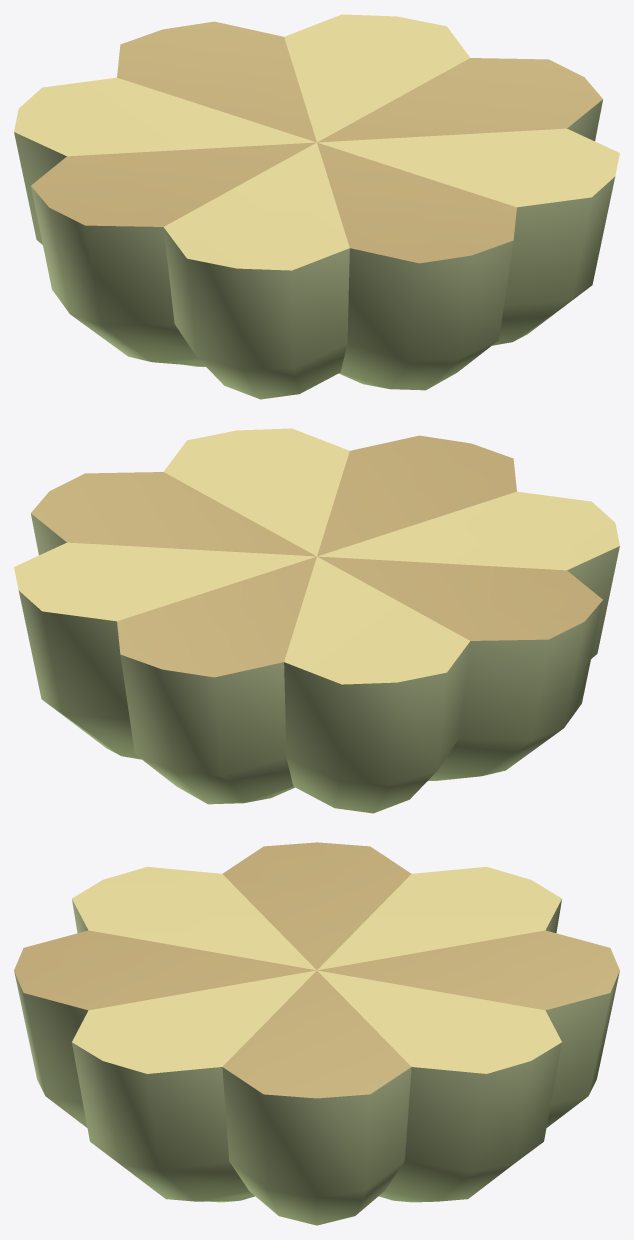
File: Garlic_Slice_01.glb
3 views of the same model, one above another, from view 1: azimuth 30°, elevation 25°; view 2: azimuth 150°, elevation 25°; view 3: azimuth 270°, elevation 25° (orthographic).
Visible parts, largest first — view 1: Garlic_Slice_01; view 2: Garlic_Slice_01; view 3: Garlic_Slice_01.
Boxes of the visible parts, x1,y1,x2,y2 form: Garlic_Slice_01: (14, 14, 619, 399); Garlic_Slice_01: (14, 428, 619, 813); Garlic_Slice_01: (14, 842, 619, 1225).
Size of the model in its own units: 0.2066 by 0.0781 by 0.2066.
Materials: 1 (1 with a texture image).
